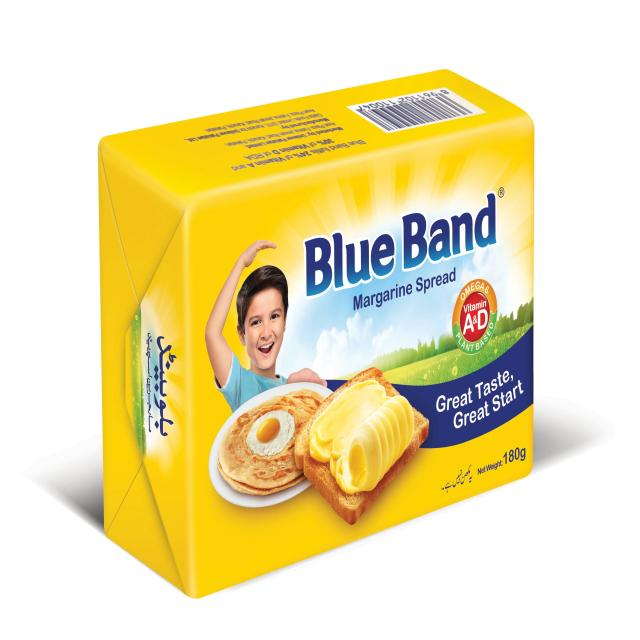butter: (74, 52, 552, 592), (552, 592, 557, 618)
